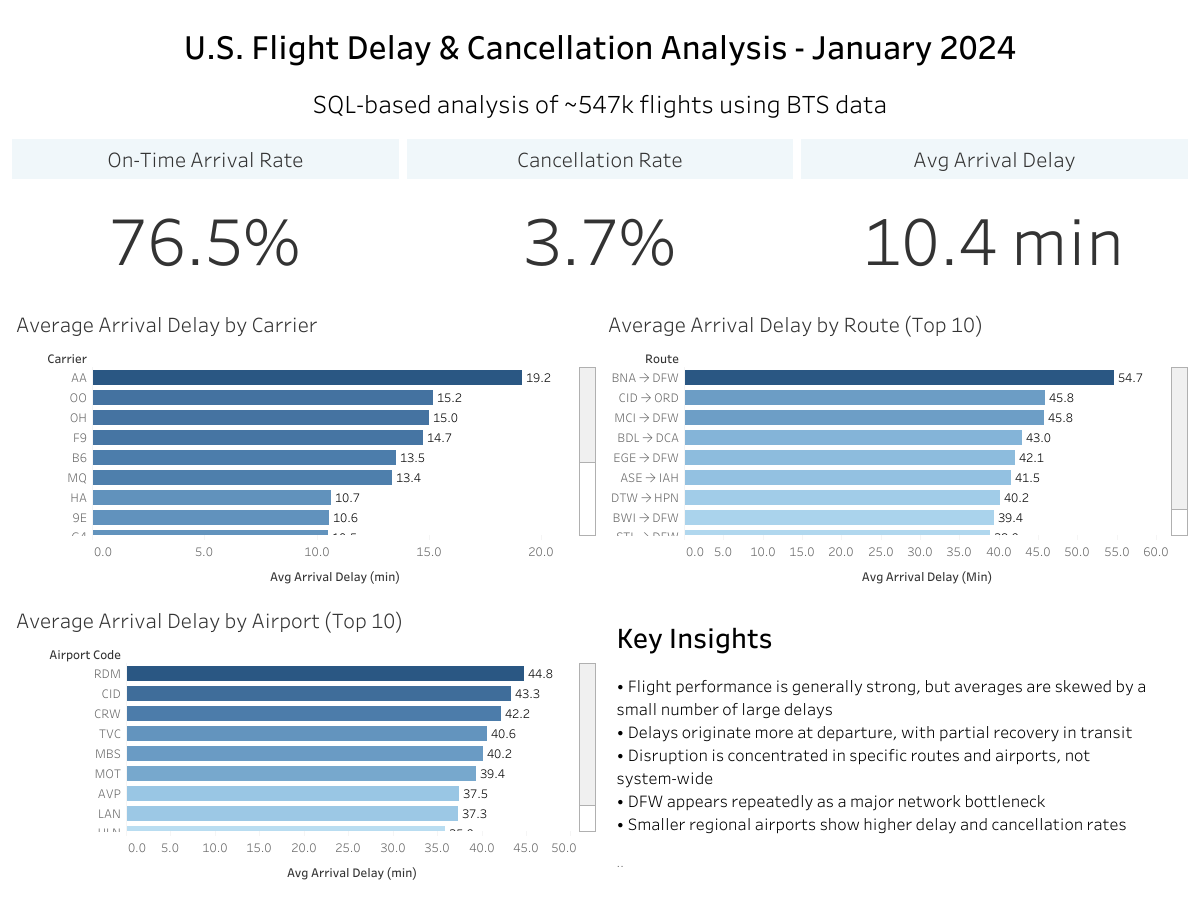

The dashboard page shown, as its layout file describes it:
{"tool":"powerbi","page":{"name":"Page 1","canvas":[1280,720],"ordinal":0},"visuals":[{"type":"card","title":"On-Time Arrival Rate","fields":{"Values":["Sum(kpi_summary.on_time_arrival_rate_percent)"]},"box":[0,96,416,112],"z":0},{"type":"card","title":"Cancellation Rate","fields":{"Values":["Sum(kpi_summary.cancellation_rate_percent)"]},"box":[432,96,416,112],"z":1000},{"type":"card","title":"Avg Arrival Delay","fields":{"Values":["Sum(kpi_summary.average_arrival_delay_minutes)"]},"box":[864,96,416,112],"z":2000},{"type":"clusteredBarChart","title":"Average Arrival Delay by Carrier","fields":{"Y":["Sum(carrier_performance.average_arrival_delay_minutes)"],"Category":["carrier_performance.carrier"]},"box":[0,208,640,256],"z":3000},{"type":"clusteredBarChart","title":"Average Arrival Delay by Route (Top 10)","fields":{"Y":["Sum(route_performance.average_arrival_delay_minutes)"],"Category":["route_performance.route"]},"box":[640,208,640,256],"z":3001},{"type":"clusteredBarChart","title":"Average Arrival Delay by Airport (Top 10)","fields":{"Y":["Sum(airport_performance.average_arrival_delay_minutes)"],"Category":["airport_performance.airport_code"]},"box":[0,464,640,256],"z":3002},{"type":"textbox","box":[640,464,640,256],"z":3003},{"type":"textbox","box":[0,0,1280,96],"z":3004}]}

Visuals, with their boxes on the page's 1280x720 design canvas (x1, y1, x2, y2). These are canvas units, not pixel positions in the 1199x899 screenshot, which may show the page scaled, cropped or inside an application window:
"On-Time Arrival Rate" card: left=0, top=96, right=416, bottom=208
"Cancellation Rate" card: left=432, top=96, right=848, bottom=208
"Avg Arrival Delay" card: left=864, top=96, right=1280, bottom=208
"Average Arrival Delay by Carrier" clusteredBarChart: left=0, top=208, right=640, bottom=464
"Average Arrival Delay by Route (Top 10)" clusteredBarChart: left=640, top=208, right=1280, bottom=464
"Average Arrival Delay by Airport (Top 10)" clusteredBarChart: left=0, top=464, right=640, bottom=720
textbox: left=640, top=464, right=1280, bottom=720
textbox: left=0, top=0, right=1280, bottom=96
